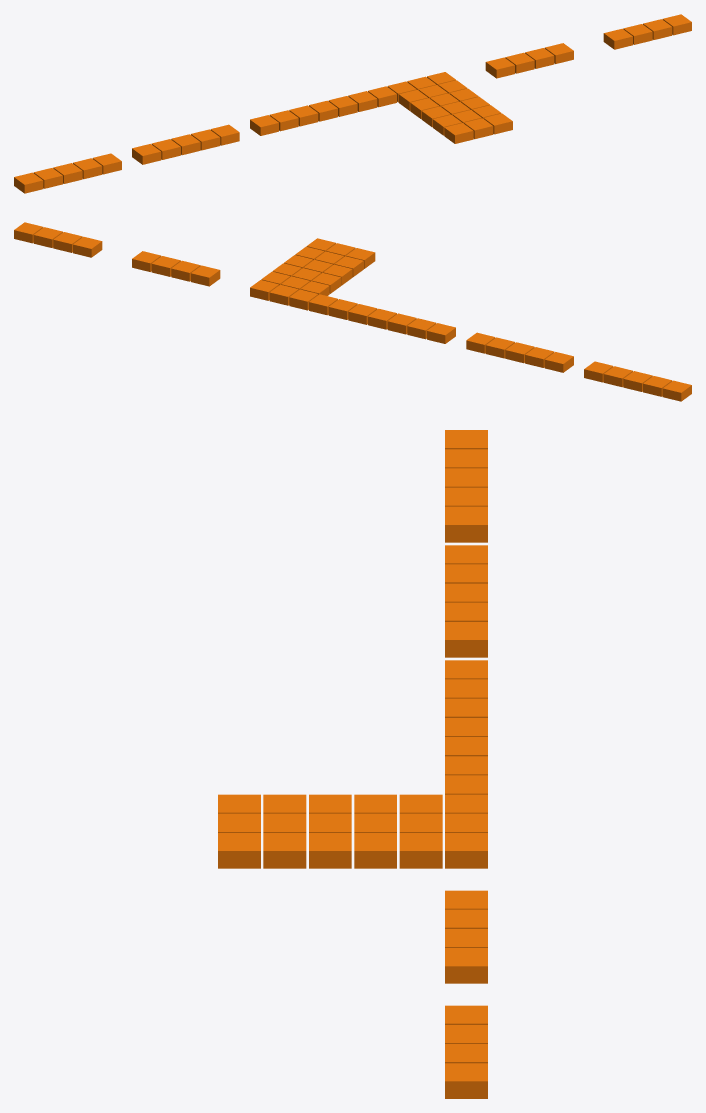
Rendered from grid_units.fbx.
3 renders of one model, top to bottom at view 1: azimuth 30°, elevation 25°; view 2: azimuth 150°, elevation 25°; view 3: azimuth 270°, elevation 25°, orthographic. The views are drawn at different scales.
Parts seen in each view (by area): view 1: Group15, Group30, Group43, Group44, Group36, Group9, Group31, Group32, Group35, Group2, Group3, Group28 (+20 smaller); view 2: Group15, Group30, Group43, Group36, Group9, Group31, Group32, Group35, Group3, Group6, Group28, Group29 (+20 smaller); view 3: Group37, Group18, Group21, Group10, Group16, Group17, Group19, Group20, Group33, Group39.
Boxes of the visible parts, x1,y1,x2,y2 form: Group15: (603, 28, 632, 49); Group30: (14, 172, 43, 193); Group43: (485, 57, 514, 78); Group44: (444, 123, 473, 143); Group36: (132, 144, 161, 164); Group9: (250, 115, 278, 135); Group31: (191, 129, 220, 150); Group32: (73, 158, 102, 179); Group35: (289, 105, 318, 126); Group2: (464, 118, 493, 139); Group3: (643, 19, 672, 39); Group28: (348, 91, 377, 111); Group15: (73, 236, 102, 257); Group30: (662, 380, 691, 401); Group43: (191, 265, 220, 286); Group36: (544, 352, 573, 372); Group9: (427, 323, 455, 343); Group31: (485, 337, 514, 358); Group32: (603, 366, 632, 387); Group35: (387, 313, 416, 334); Group3: (33, 227, 62, 247); Group6: (269, 284, 298, 305); Group28: (328, 299, 357, 319); Group29: (151, 256, 180, 276); Group37: (445, 506, 487, 542); Group18: (263, 833, 306, 868); Group21: (399, 833, 442, 868); Group10: (445, 948, 487, 983); Group16: (445, 833, 487, 868); Group17: (309, 833, 351, 868); Group19: (354, 833, 396, 868); Group20: (218, 833, 260, 868); Group33: (445, 1063, 487, 1098); Group39: (445, 622, 487, 657).
Size of the model in its own units: 1.19 by 0.015 by 0.208.
